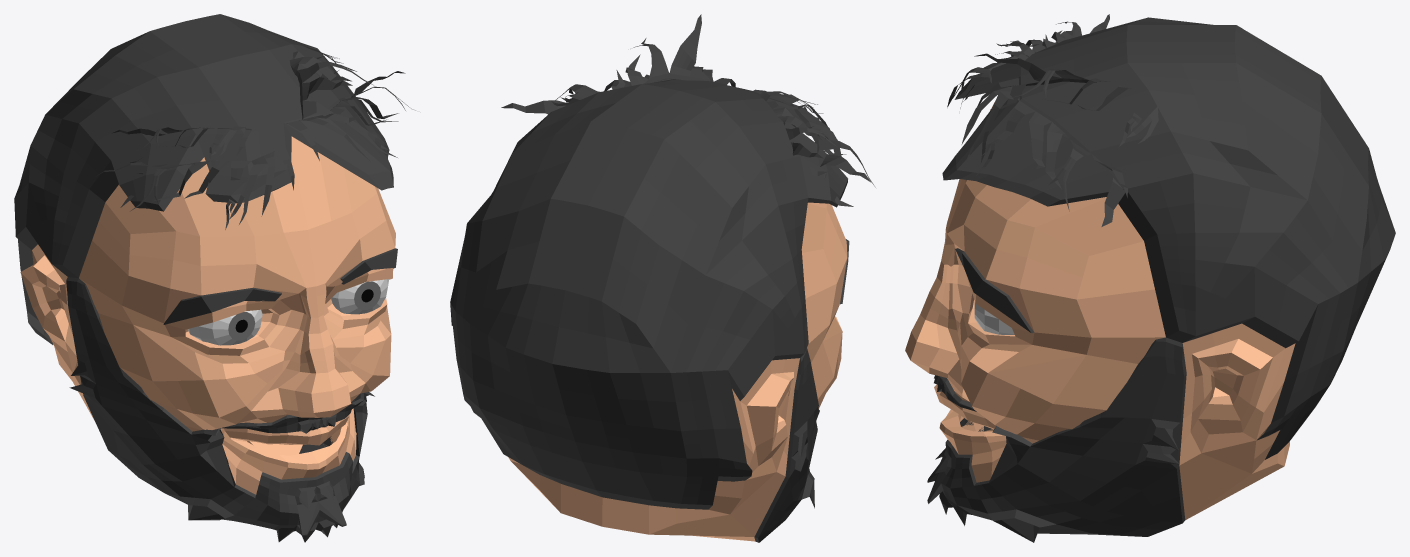
The picture shows the model from 3 angles, left to right: view 1: azimuth 30°, elevation 25°; view 2: azimuth 150°, elevation 25°; view 3: azimuth 270°, elevation 25°; orthographic projection. The views are drawn at different scales.
Parts seen in each view (by area): view 1: At0mium, At0mium.Cheveux, At0mium.001, At0mium.003, Sphere.001, Sphere; view 2: At0mium.Cheveux, At0mium, At0mium.001; view 3: At0mium.Cheveux, At0mium, At0mium.001, At0mium.003, Sphere.
Boxes of the visible parts, <box> form: At0mium: <box>20,136,395,494</box>; At0mium.Cheveux: <box>14,14,415,344</box>; At0mium.001: <box>66,277,374,542</box>; At0mium.003: <box>163,248,397,324</box>; Sphere.001: <box>188,309,262,345</box>; Sphere: <box>331,279,388,314</box>; At0mium.Cheveux: <box>450,14,875,509</box>; At0mium: <box>508,202,847,541</box>; At0mium.001: <box>754,348,819,542</box>; At0mium.Cheveux: <box>942,14,1395,459</box>; At0mium: <box>905,100,1295,519</box>; At0mium.001: <box>927,337,1186,542</box>; At0mium.003: <box>955,248,1034,333</box>; Sphere: <box>974,301,1014,334</box>.
Bounding box in the file's own units: 284 × 362 × 327.
